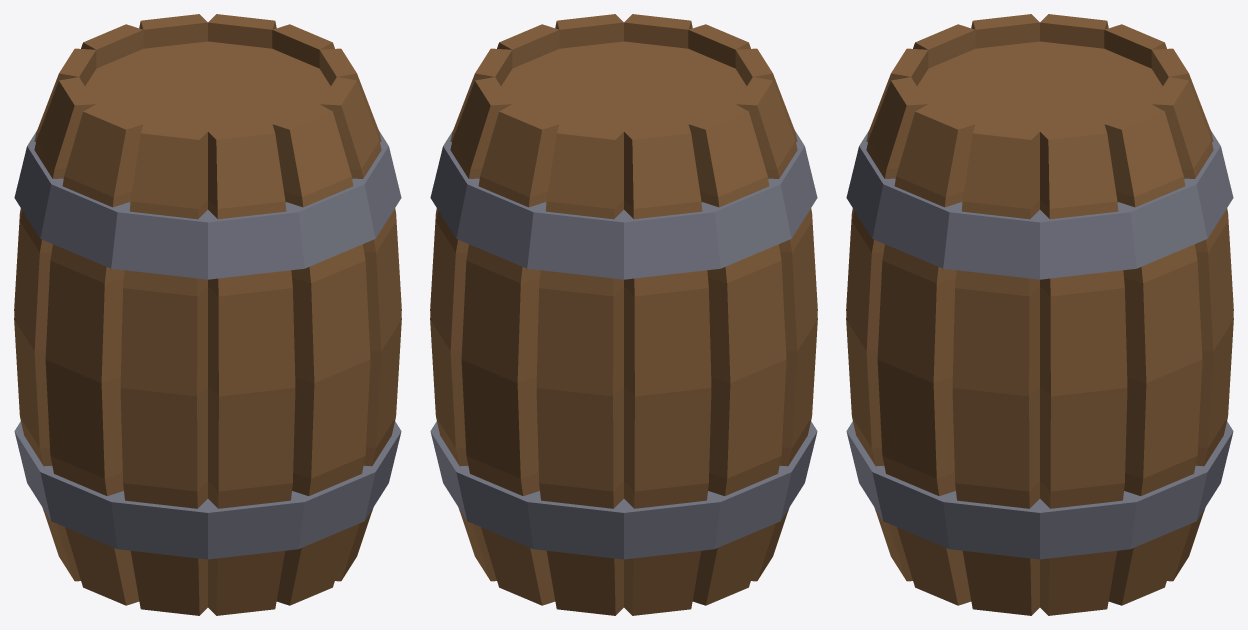
Rendered from Barrel.fbx.
3 views of the same model, side by side, from view 1: azimuth 30°, elevation 25°; view 2: azimuth 150°, elevation 25°; view 3: azimuth 270°, elevation 25° (orthographic).
Visible parts, largest first — view 1: Barrel; view 2: Barrel; view 3: Barrel.
Part boxes in pixels (left/top/right/bottom): Barrel: left=14, top=14, right=401, bottom=615; Barrel: left=430, top=14, right=817, bottom=615; Barrel: left=846, top=14, right=1233, bottom=615.
Size of the model in its own units: 37.25 by 50.45 by 37.25.
